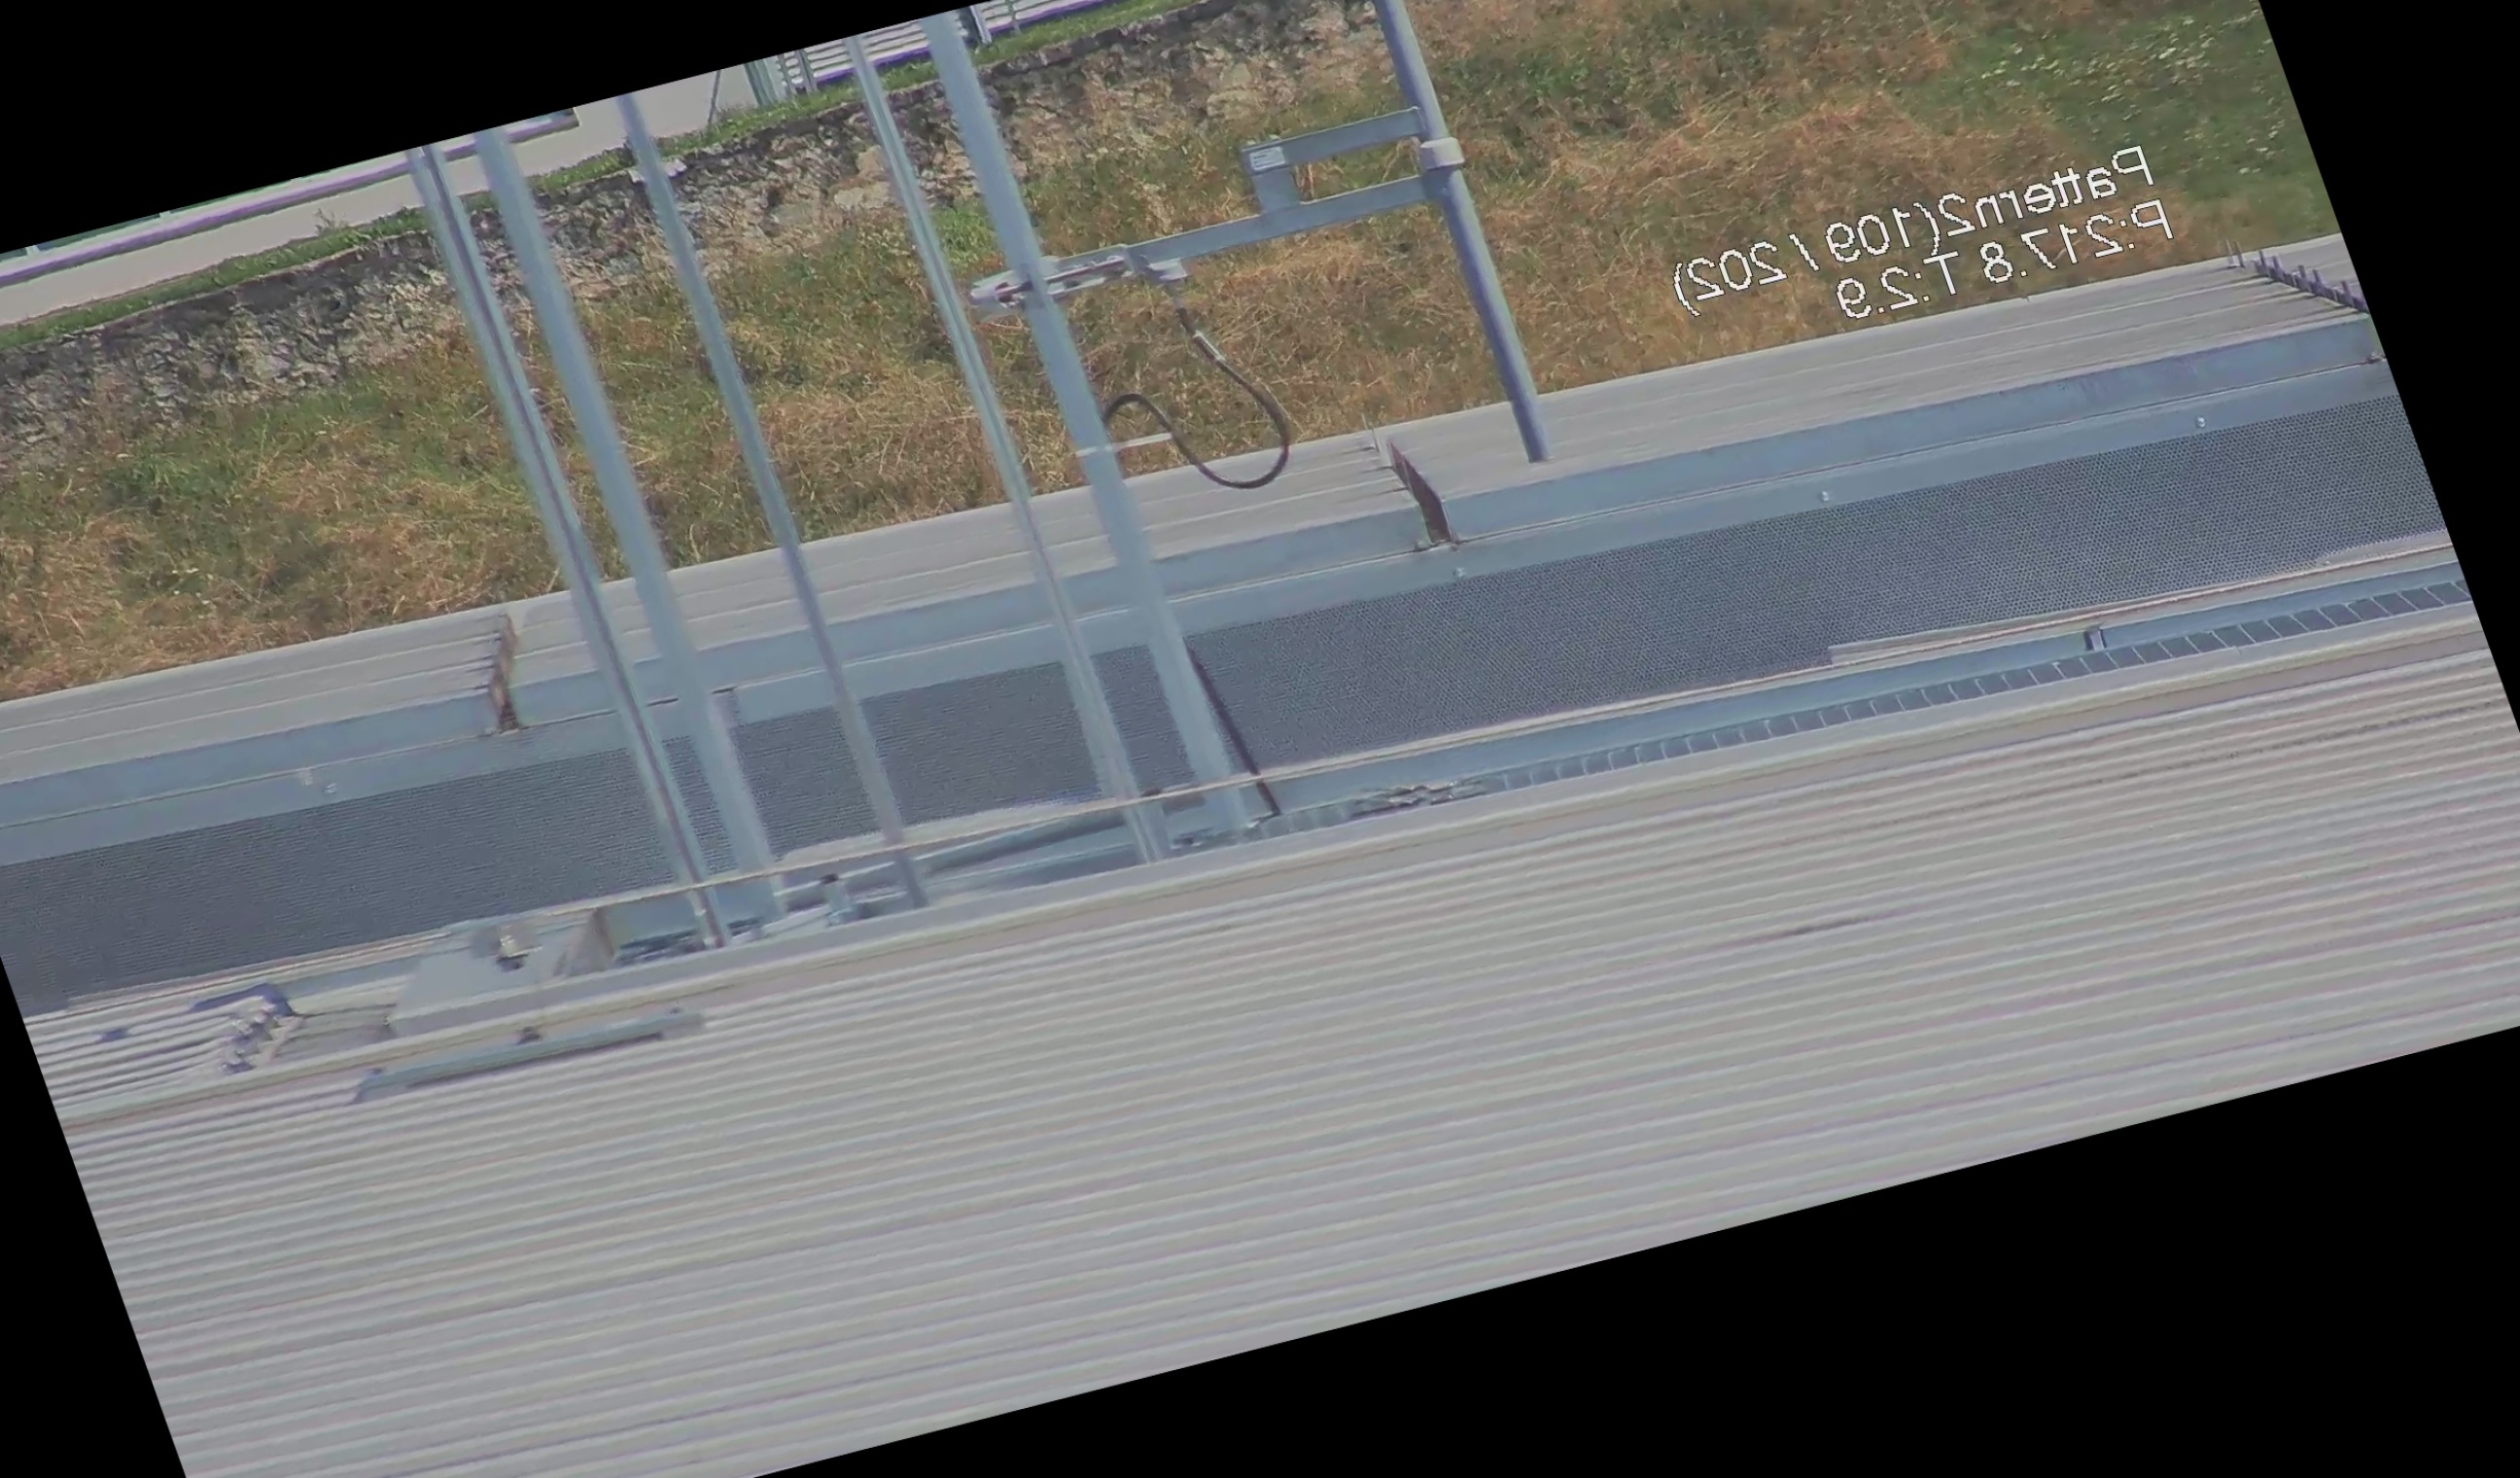Other: (1365, 417, 1475, 554)
